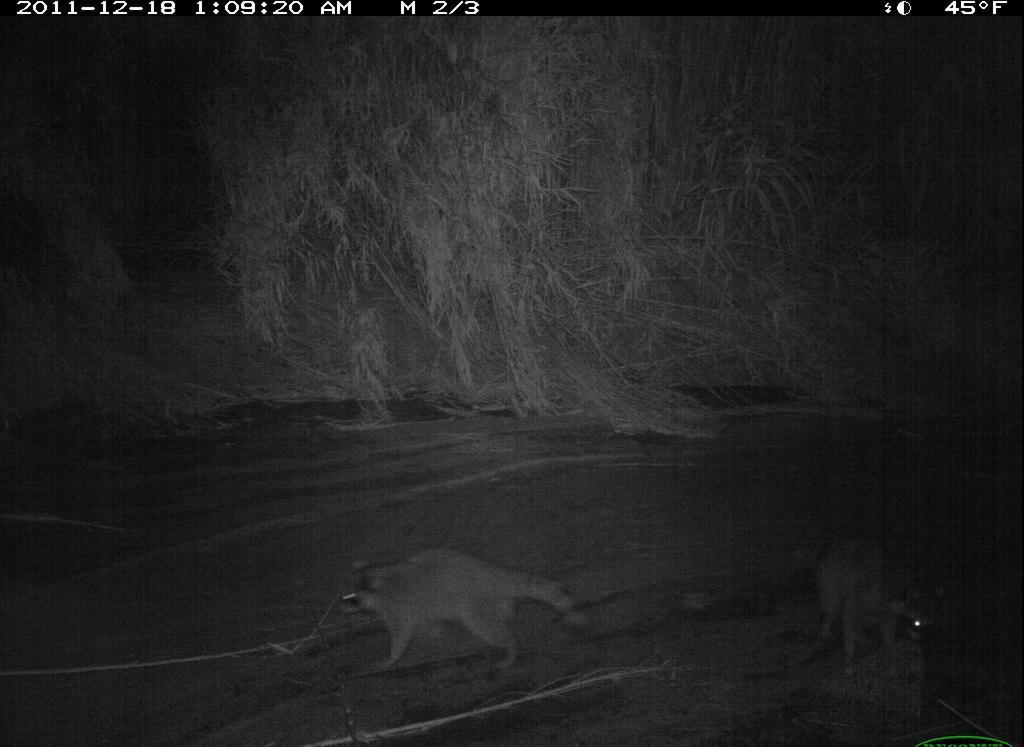raccoon: (319, 539, 609, 687), (776, 524, 966, 699)
